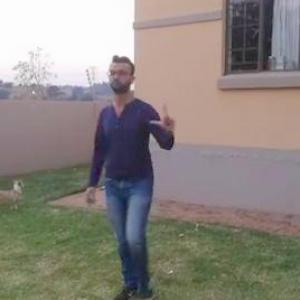land_hand: (147, 98, 180, 136)
